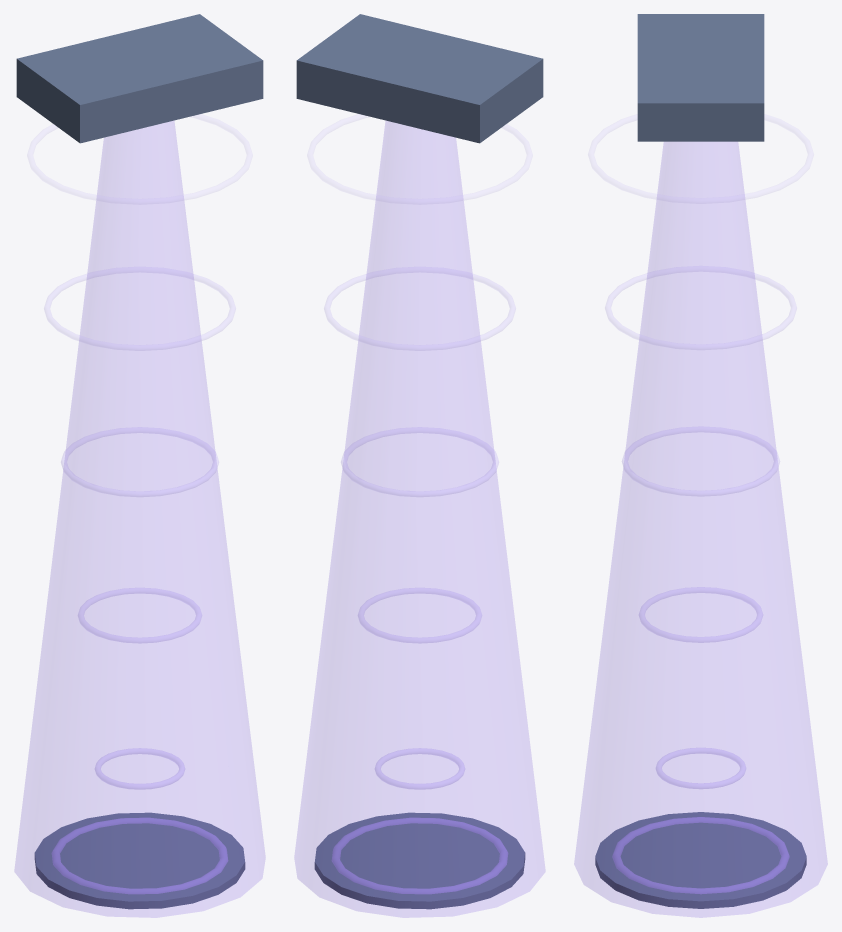
The model's file is energy-beam.glb.
3 views of the same model, side by side, from view 1: azimuth 30°, elevation 25°; view 2: azimuth 150°, elevation 25°; view 3: azimuth 270°, elevation 25° (orthographic).
Size of the model in its own units: 1.2 by 4.2 by 1.2.
